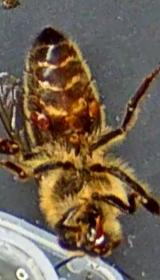varroa_mite: (72, 86, 105, 132), (25, 96, 56, 137)
